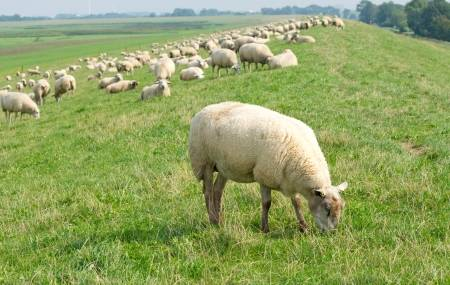sheep: (186, 100, 354, 244), (1, 88, 42, 122), (239, 40, 275, 72), (209, 48, 240, 75), (135, 79, 174, 100), (268, 46, 301, 70), (52, 74, 79, 102), (153, 56, 178, 80), (177, 66, 207, 84), (105, 81, 140, 94), (290, 32, 316, 47), (114, 59, 135, 75), (330, 14, 349, 30)
